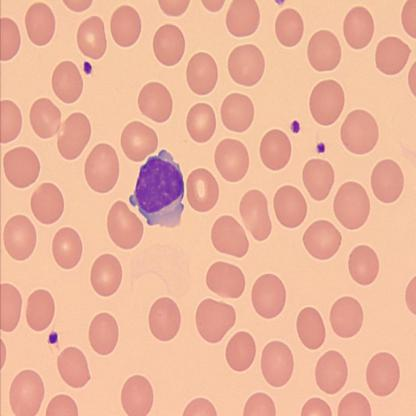Atypical lymphocyte: (130, 148, 184, 226)
